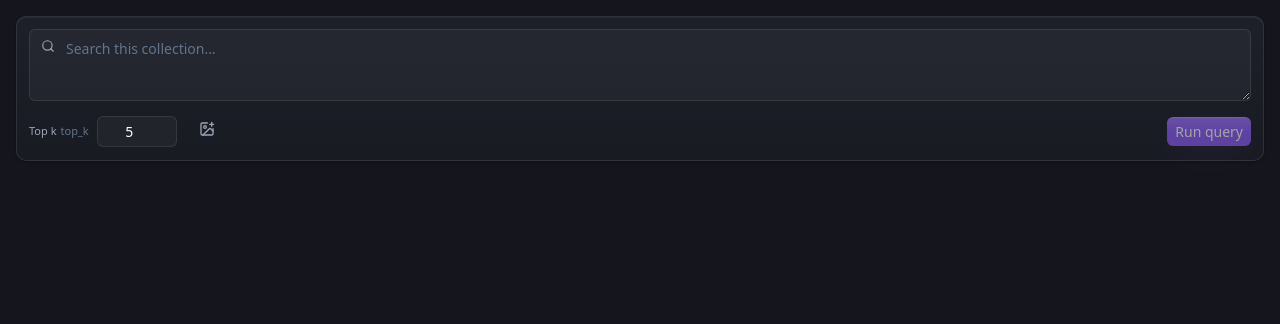
it: CollectionSearch › renders a structured tool result as labeled output fields
This screenshot has width=1280, height=324.
Type "how many mention aurora" into the text box named "Search query" at (640, 65), box x1=29 y1=29 x2=1251 y2=101
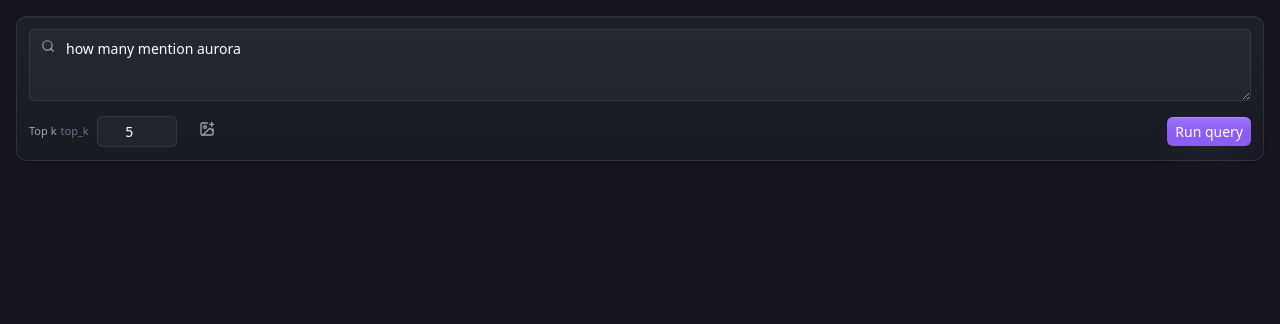
Click the button "Run query" at (1209, 131), box x1=1167 y1=116 x2=1251 y2=146
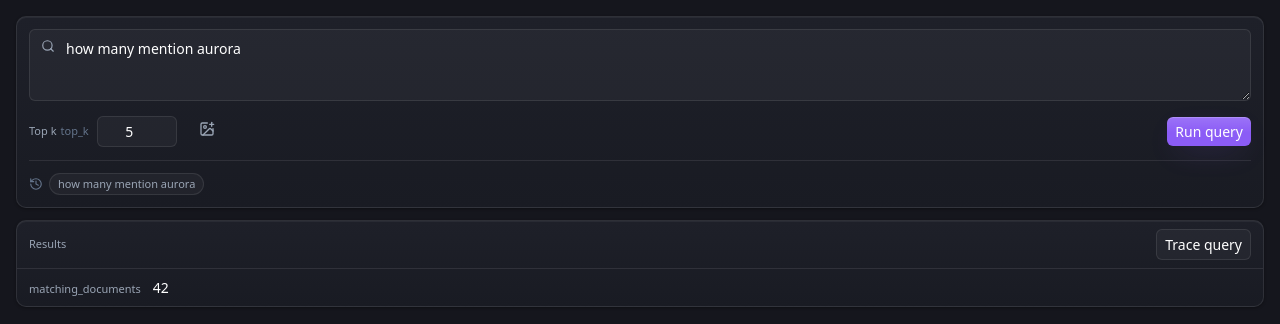
Expected: the text "matching_documents" is shown, x1=29 y1=281 x2=141 y2=298
Expected: the text "42" is shown, x1=153 y1=278 x2=169 y2=297
